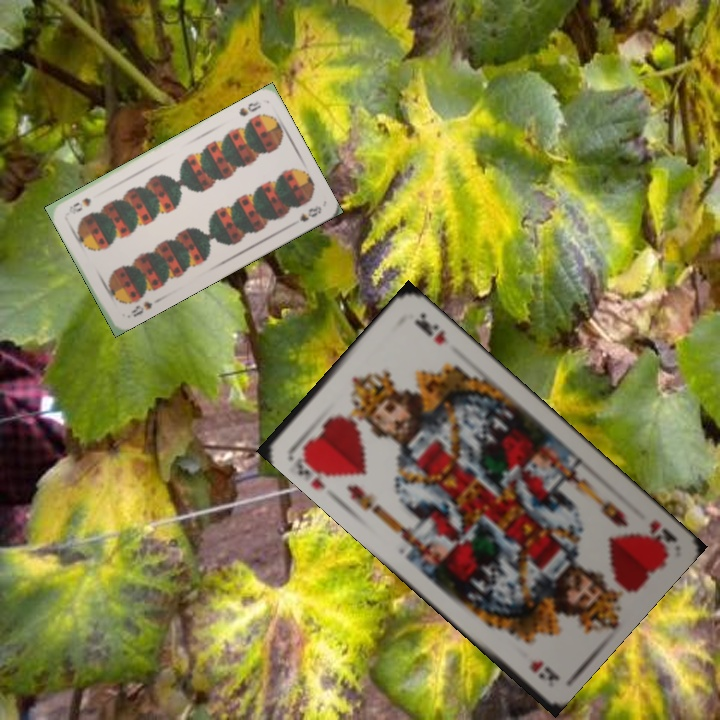HK: (284, 443, 338, 492), (639, 515, 679, 553)
S8: (127, 297, 155, 320), (235, 97, 263, 119)
